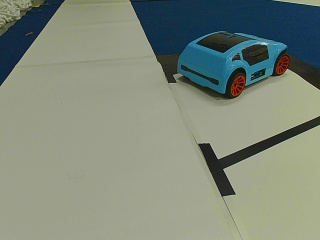car: (176, 32, 291, 97)
